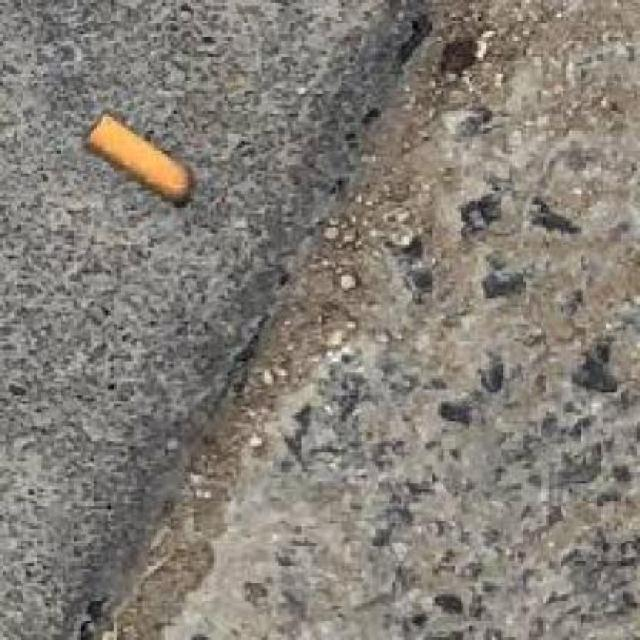cigarette: (79, 89, 193, 216)
